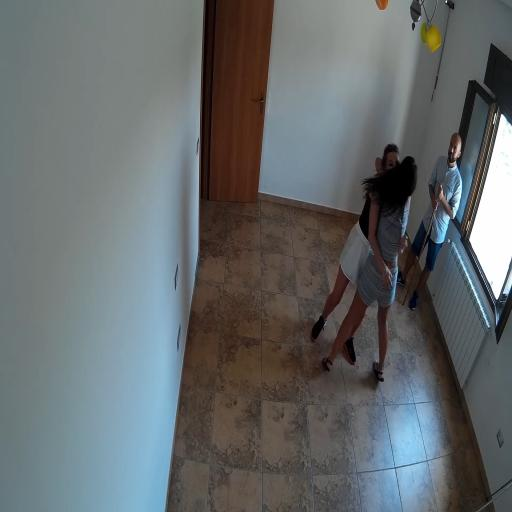nao-violencia: (301, 116, 423, 390)
